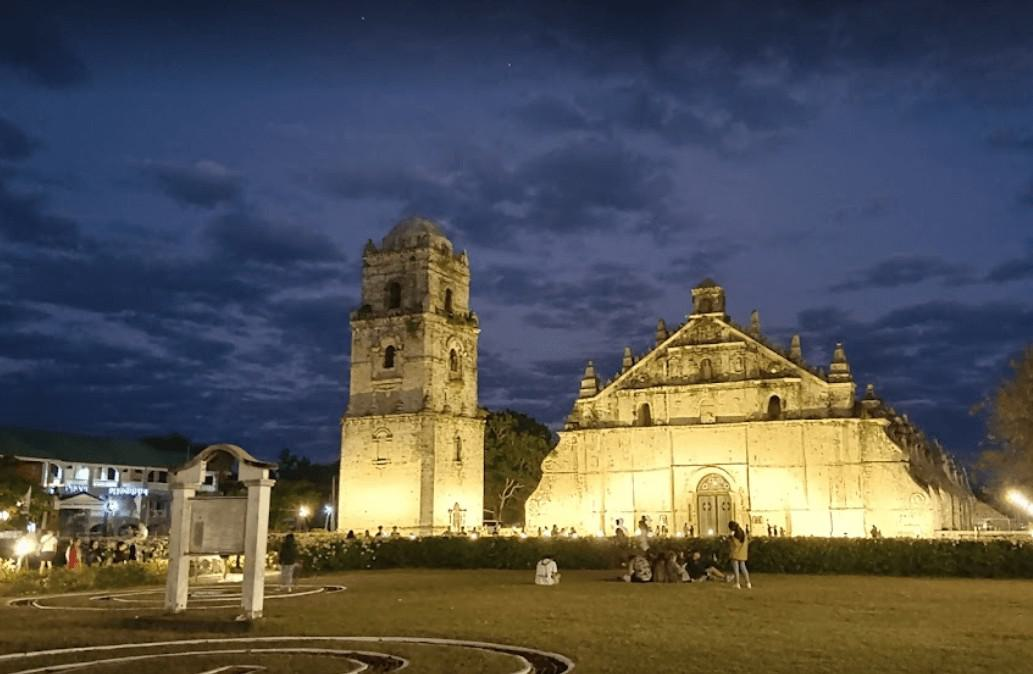Environmental Damage: (441, 306, 480, 338), (352, 303, 379, 324)
Paoay Church: (331, 213, 943, 542)
